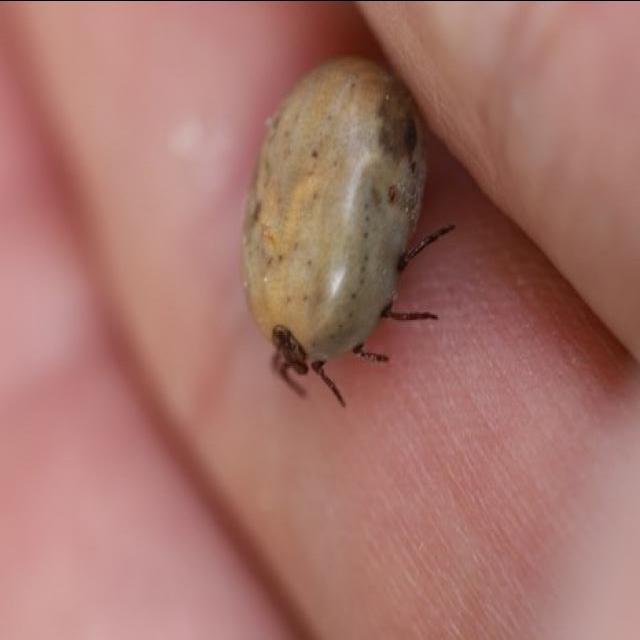Dermacentor Reticulatus-F-Fed: (242, 58, 456, 410)
